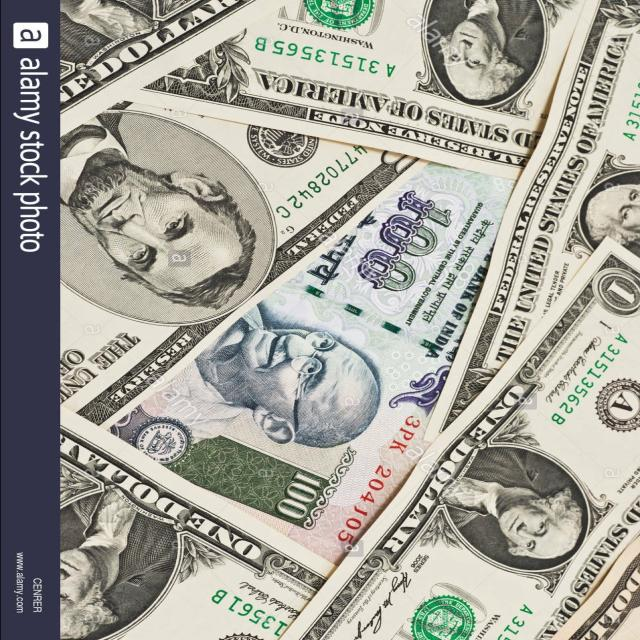100IndianRupees: (124, 162, 513, 528)
